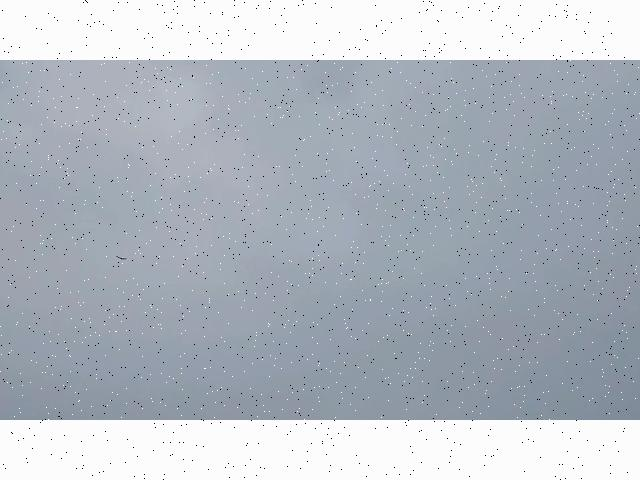Anti-Drone: (116, 256, 126, 260)
